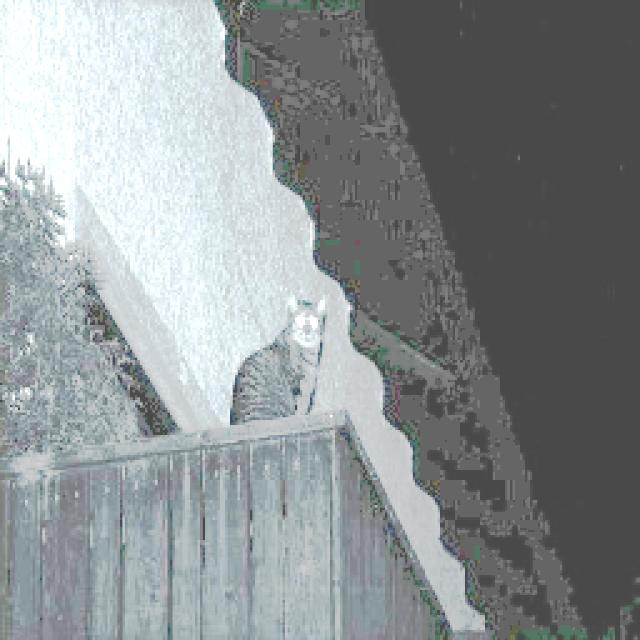cat: (207, 279, 352, 444)
